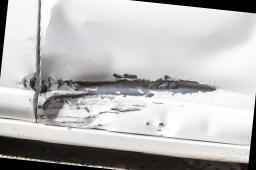Door: (27, 0, 256, 156)
Fender: (0, 13, 42, 123)
